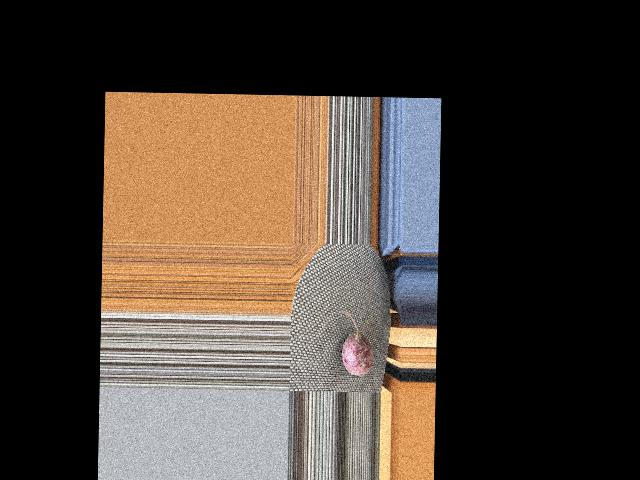beet: (337, 310, 374, 375)
